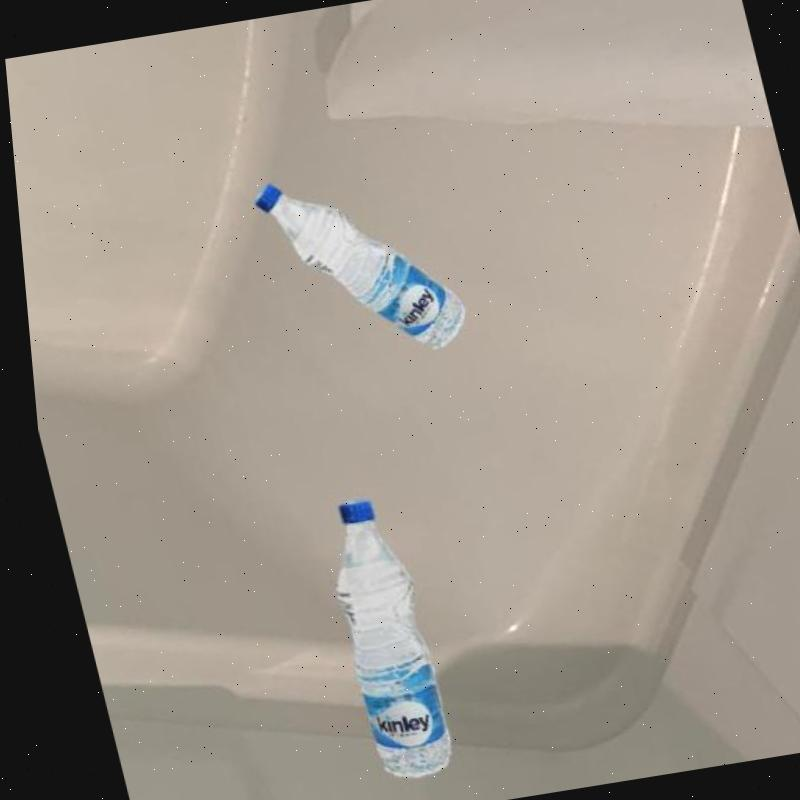botella: (247, 157, 470, 370), (302, 493, 446, 784)
